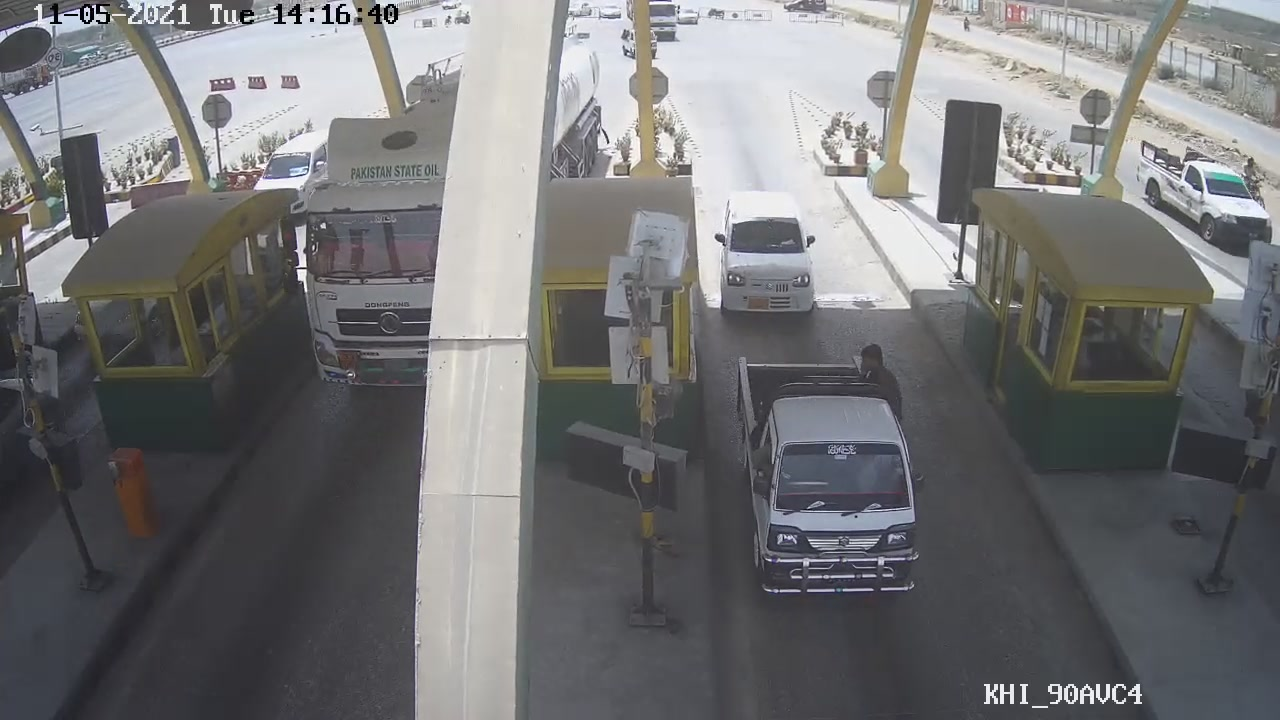F1: (726, 346, 934, 598), (713, 188, 826, 315)
